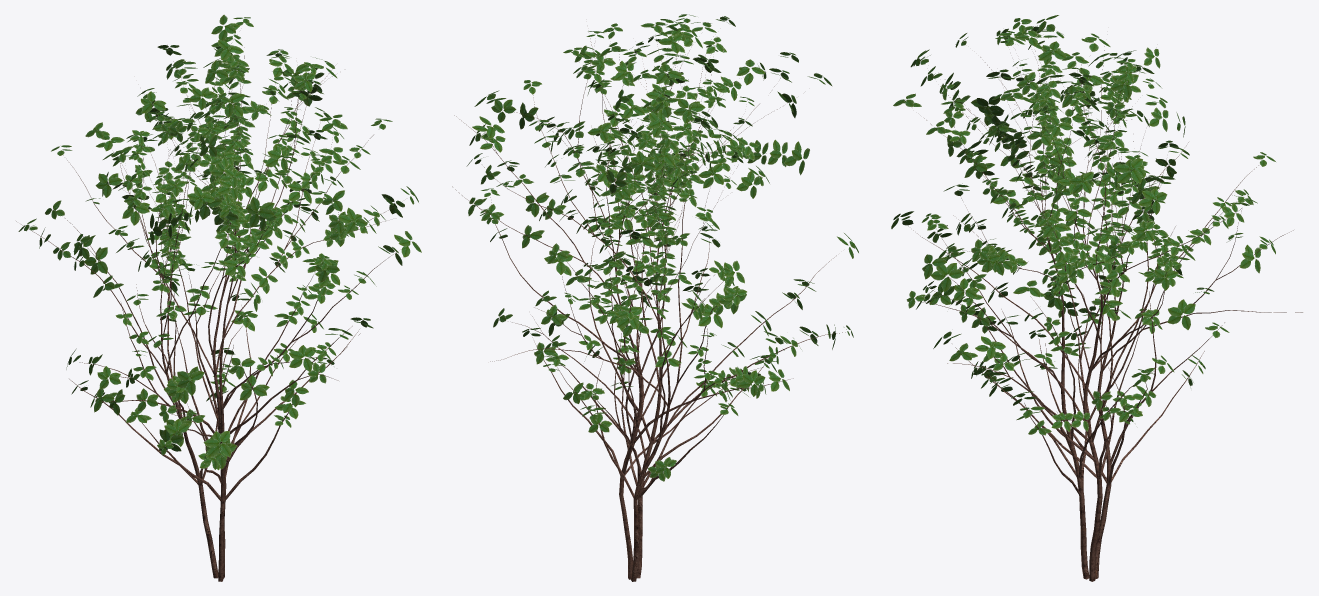
File: nejiki_nocolor.fbx
3 views of the same model, side by side, from view 1: azimuth 30°, elevation 25°; view 2: azimuth 150°, elevation 25°; view 3: azimuth 270°, elevation 25° (orthographic).
Visible parts, largest first — view 1: Tree.004, Tree.003, Tree; view 2: Tree.004, Tree, Tree.003; view 3: Tree.004, Tree, Tree.003.
Boxes of the visible parts, <box> form: Tree.004: <box>63,43,352,578</box>; Tree.003: <box>142,75,396,581</box>; Tree: <box>16,105,242,578</box>; Tree.004: <box>452,38,793,579</box>; Tree: <box>490,129,836,581</box>; Tree.003: <box>484,36,845,578</box>; Tree.004: <box>918,46,1258,581</box>; Tree: <box>908,73,1302,579</box>; Tree.003: <box>924,37,1155,579</box>.
Size of the model in its own units: 153 by 264 by 179.
Materials: 2 (2 with a texture image).
